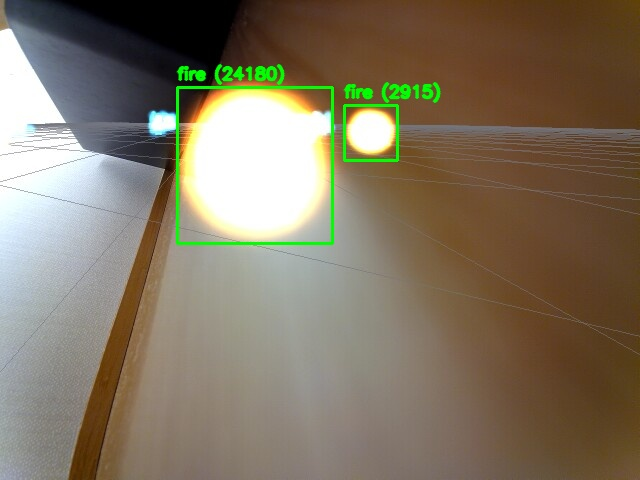fire: (177, 87, 332, 243), (344, 105, 397, 160)
